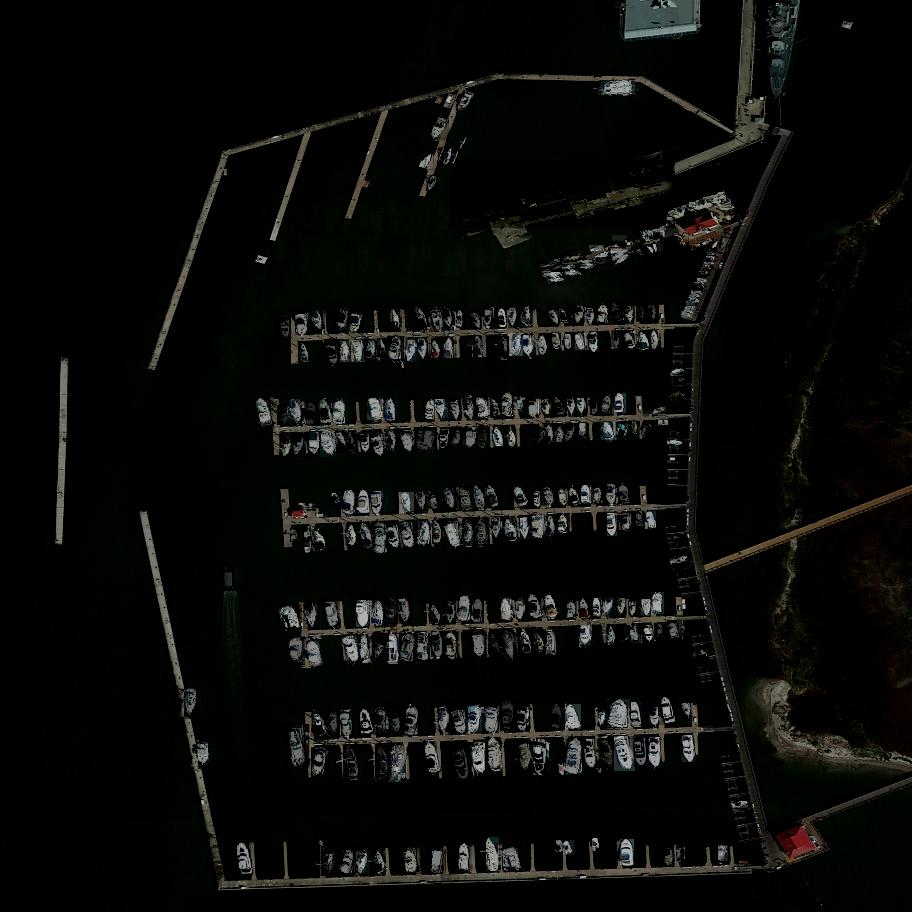ship: (450, 160, 675, 229), (286, 724, 311, 768), (566, 735, 588, 776), (452, 742, 474, 782), (614, 736, 636, 774), (468, 739, 490, 776), (388, 745, 409, 783), (607, 699, 631, 731), (370, 704, 392, 737), (372, 521, 393, 555), (278, 604, 302, 633), (414, 427, 438, 455), (402, 705, 423, 737), (343, 745, 361, 782), (305, 638, 326, 669), (400, 847, 422, 876), (485, 738, 503, 773), (236, 841, 254, 876), (398, 633, 419, 663), (256, 397, 275, 430), (312, 747, 331, 780), (500, 632, 520, 663), (423, 741, 441, 775), (357, 707, 377, 737), (342, 635, 362, 665), (438, 145, 461, 171), (376, 744, 392, 781), (599, 80, 636, 96), (329, 397, 350, 425), (400, 521, 420, 550), (583, 739, 601, 771), (286, 636, 305, 666), (503, 846, 524, 873), (387, 336, 407, 364), (599, 738, 617, 769), (499, 701, 517, 732), (324, 709, 342, 740), (429, 116, 450, 142), (287, 399, 307, 426), (467, 704, 485, 734), (388, 707, 406, 737), (322, 846, 340, 876), (444, 521, 464, 548), (534, 739, 549, 774), (487, 837, 502, 872), (526, 592, 544, 621), (339, 849, 358, 876), (387, 523, 406, 550), (443, 631, 460, 661), (372, 634, 390, 662), (455, 89, 475, 114), (185, 688, 201, 719), (472, 631, 488, 662), (474, 518, 491, 547), (324, 339, 342, 366), (413, 305, 431, 332), (319, 431, 337, 458), (358, 634, 376, 661), (452, 708, 470, 735), (456, 484, 474, 511), (304, 602, 322, 629), (311, 709, 327, 739), (456, 596, 473, 624), (516, 628, 533, 656), (326, 601, 343, 629), (563, 704, 582, 729), (369, 432, 387, 458), (342, 490, 360, 516), (661, 697, 677, 726), (317, 398, 334, 425), (484, 706, 501, 733), (503, 516, 520, 543), (474, 396, 492, 421), (459, 521, 477, 546), (518, 742, 532, 774), (383, 598, 399, 626), (381, 398, 398, 424), (335, 308, 352, 334), (529, 515, 546, 541), (308, 311, 326, 335), (550, 703, 566, 730), (487, 485, 504, 510), (417, 521, 434, 546), (444, 488, 461, 513), (634, 738, 648, 768), (416, 634, 431, 662), (543, 594, 559, 620), (531, 630, 547, 656), (508, 333, 525, 357), (459, 843, 473, 872), (399, 598, 414, 625), (429, 307, 445, 332), (430, 849, 446, 874), (312, 528, 328, 553), (356, 600, 370, 628), (367, 399, 384, 422), (514, 487, 531, 510), (279, 433, 294, 459), (489, 631, 502, 661), (610, 302, 626, 326), (341, 709, 355, 736), (464, 426, 479, 451), (295, 311, 310, 336), (370, 601, 385, 626), (541, 424, 557, 447), (536, 259, 562, 273), (620, 839, 634, 865), (385, 429, 400, 453), (502, 393, 517, 417), (595, 303, 611, 325), (551, 394, 567, 416), (599, 395, 615, 417), (472, 597, 485, 624), (474, 485, 488, 510), (351, 340, 366, 363), (451, 427, 466, 450), (400, 430, 415, 453), (652, 592, 667, 615), (360, 523, 373, 549), (431, 632, 444, 658), (387, 634, 399, 662), (422, 400, 437, 422), (399, 492, 414, 514), (556, 513, 571, 535), (668, 621, 683, 643), (478, 426, 491, 451), (293, 433, 306, 458), (224, 564, 236, 591), (444, 338, 458, 361), (350, 311, 364, 334), (541, 488, 557, 508), (363, 340, 378, 361), (520, 306, 535, 327), (277, 405, 292, 426), (435, 399, 450, 420), (645, 303, 660, 324), (619, 512, 634, 533), (567, 486, 582, 507), (306, 400, 318, 426), (682, 736, 694, 762), (197, 742, 210, 766), (651, 737, 661, 768), (497, 337, 511, 359), (489, 397, 503, 419), (545, 517, 559, 539), (371, 492, 385, 514), (416, 491, 430, 513), (420, 154, 436, 173), (357, 850, 369, 875), (418, 338, 431, 361), (334, 431, 347, 454), (431, 338, 445, 359), (463, 399, 477, 420), (345, 525, 358, 547), (579, 597, 592, 619), (592, 486, 607, 505), (601, 423, 615, 443), (602, 598, 616, 618), (358, 491, 370, 514), (638, 330, 651, 351), (390, 309, 403, 330), (469, 311, 483, 330), (548, 308, 562, 327), (623, 305, 637, 324), (617, 626, 631, 645), (405, 339, 417, 361), (298, 341, 310, 363), (309, 432, 320, 456), (524, 335, 536, 357), (279, 317, 291, 339), (664, 845, 676, 867), (560, 252, 586, 262), (673, 232, 689, 248), (615, 252, 632, 267), (631, 702, 642, 725), (589, 332, 601, 353), (625, 331, 638, 350), (566, 423, 579, 442), (427, 174, 440, 193), (670, 554, 690, 566), (614, 393, 626, 413), (648, 707, 660, 727), (618, 484, 630, 504), (612, 248, 629, 262), (575, 334, 588, 352), (531, 426, 544, 444), (592, 251, 610, 264), (502, 599, 513, 620), (376, 851, 386, 874), (607, 513, 617, 536), (611, 330, 623, 349), (548, 629, 557, 654), (615, 423, 629, 439), (378, 338, 389, 358), (555, 425, 566, 445), (429, 604, 440, 624), (445, 601, 455, 623), (433, 520, 442, 544), (340, 341, 350, 362), (329, 493, 343, 508), (457, 310, 468, 329), (508, 309, 519, 328), (573, 306, 584, 325), (643, 625, 654, 644), (518, 707, 527, 730), (549, 333, 561, 350), (541, 399, 553, 416), (429, 493, 441, 510), (654, 624, 666, 641), (673, 563, 693, 573), (450, 401, 461, 419), (586, 308, 597, 326), (631, 245, 649, 256), (581, 486, 592, 504), (632, 226, 648, 238), (628, 601, 640, 617), (538, 335, 548, 354), (440, 429, 449, 450), (439, 709, 448, 730), (637, 306, 648, 323), (719, 846, 730, 863), (634, 512, 645, 529), (645, 512, 656, 529), (667, 391, 685, 401), (444, 309, 454, 327), (483, 307, 493, 325), (682, 703, 694, 718), (606, 485, 616, 503), (558, 488, 568, 506), (695, 657, 710, 669), (617, 599, 627, 617), (361, 432, 369, 454), (564, 840, 575, 856), (641, 599, 652, 615), (348, 433, 357, 452), (631, 625, 640, 644), (581, 626, 590, 645), (577, 398, 587, 415), (596, 257, 613, 267), (521, 518, 529, 539), (493, 518, 501, 539), (631, 422, 642, 437), (670, 376, 688, 385), (473, 337, 482, 355), (730, 801, 748, 810), (598, 710, 607, 728), (568, 601, 577, 619), (652, 406, 666, 417), (553, 841, 564, 855), (607, 626, 615, 645), (516, 600, 524, 619), (528, 400, 537, 416), (558, 764, 568, 778), (290, 528, 300, 542), (561, 265, 578, 273), (608, 247, 625, 255), (564, 334, 572, 350), (670, 369, 686, 377), (590, 399, 598, 415), (567, 398, 575, 414), (533, 491, 541, 507), (652, 331, 659, 349), (560, 308, 569, 322), (594, 598, 601, 616), (517, 396, 525, 411), (590, 245, 605, 253), (667, 440, 684, 447), (304, 542, 313, 555), (666, 534, 680, 542), (644, 218, 654, 229), (690, 291, 702, 300), (687, 299, 699, 308), (681, 311, 693, 320), (654, 232, 663, 244), (680, 625, 689, 637), (613, 236, 628, 243), (304, 526, 312, 539), (579, 265, 596, 271), (684, 307, 695, 316), (577, 260, 593, 266), (677, 846, 683, 862), (580, 423, 587, 436), (702, 238, 712, 247), (565, 271, 579, 277), (704, 258, 714, 266), (693, 284, 703, 292), (643, 424, 649, 437), (592, 838, 599, 849), (362, 659, 373, 666), (724, 210, 733, 218), (722, 203, 732, 210), (689, 296, 699, 303), (548, 279, 565, 283), (698, 274, 707, 281), (697, 278, 707, 284), (545, 273, 560, 277), (729, 209, 737, 216), (652, 216, 659, 224), (694, 282, 705, 287), (695, 651, 706, 656), (692, 289, 701, 295), (723, 199, 730, 206), (708, 195, 715, 202), (681, 205, 688, 212), (686, 306, 697, 310), (673, 208, 679, 215), (686, 204, 692, 211), (695, 200, 701, 207), (660, 231, 666, 238), (299, 504, 313, 507), (707, 256, 715, 261), (717, 194, 725, 199), (702, 268, 712, 272), (664, 212, 670, 218), (703, 197, 709, 203), (669, 210, 675, 216), (690, 202, 696, 208), (699, 199, 705, 205), (690, 245, 701, 248), (703, 263, 714, 266), (710, 248, 718, 252), (659, 420, 664, 426), (700, 272, 710, 275), (678, 207, 683, 213), (633, 242, 643, 245), (401, 774, 406, 780), (708, 252, 715, 256), (542, 270, 551, 273), (401, 363, 405, 369), (655, 420, 659, 425), (662, 213, 666, 218), (658, 216, 661, 222), (554, 268, 563, 270), (318, 514, 324, 517), (719, 197, 726, 199), (663, 420, 665, 424)
